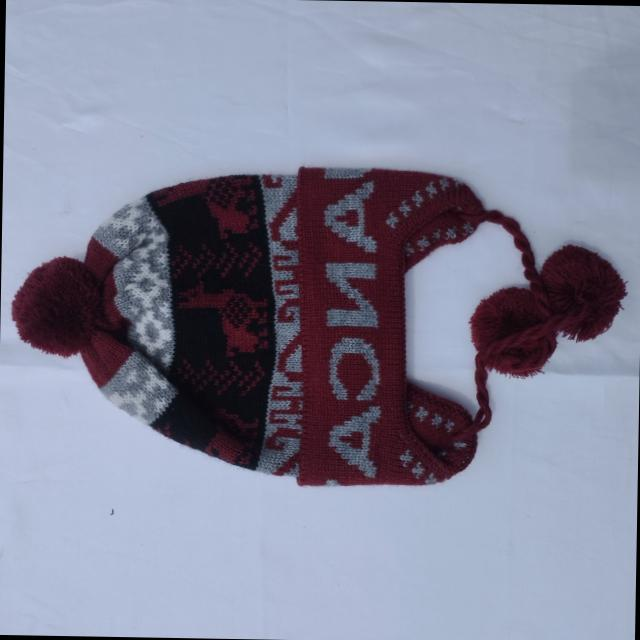Gorro: (8, 161, 630, 494)
